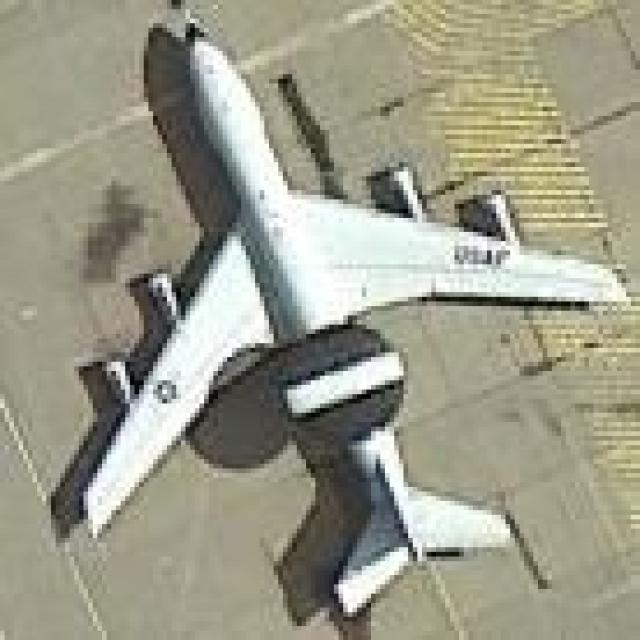E-3_TopDown: (41, 0, 630, 621)
